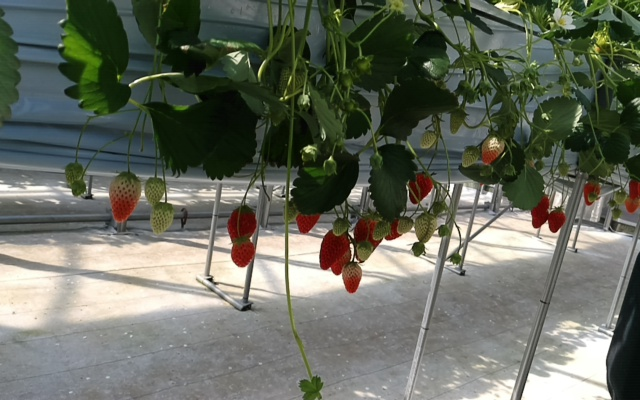GreenStrawberry: (108, 171, 143, 226), (279, 63, 308, 99), (149, 199, 174, 236), (482, 133, 506, 166), (343, 260, 364, 294), (416, 210, 437, 242), (144, 175, 164, 206), (461, 145, 481, 169), (64, 161, 82, 187), (269, 101, 286, 128), (372, 218, 390, 242), (331, 217, 350, 237), (417, 129, 436, 149), (282, 199, 297, 224), (396, 214, 413, 233), (357, 241, 372, 261), (72, 179, 86, 197), (614, 190, 626, 205), (586, 193, 598, 203), (612, 207, 621, 220)
MatureStrawberry: (318, 226, 351, 278), (355, 211, 385, 262), (225, 203, 258, 246), (296, 201, 323, 236), (408, 169, 433, 205), (229, 236, 255, 269), (530, 193, 550, 229), (384, 209, 404, 241), (583, 177, 601, 208), (548, 206, 567, 235), (628, 174, 640, 199), (626, 194, 640, 214)
